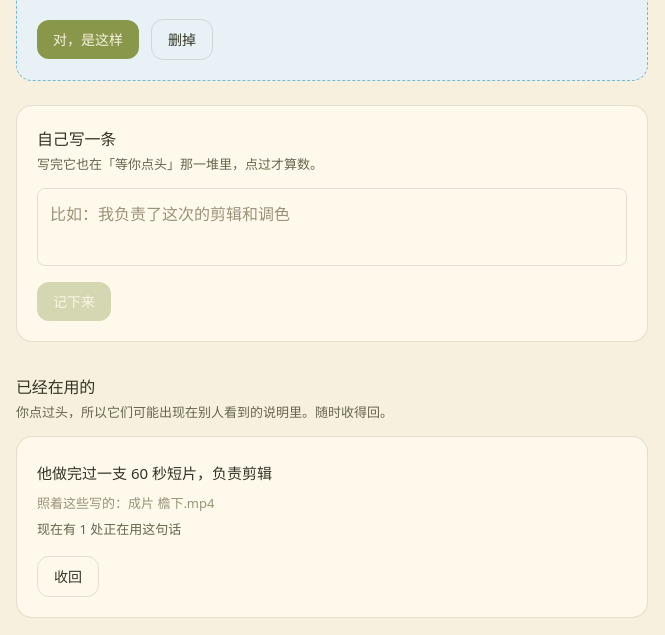
Test case: 收回 › 一步完成：不再确认一次，也不问为什么
The width and height of the screenshot is (665, 635).
(page scrolled)
Step 1. Click the button "收回" → click(68, 577), box [37,556,99,597]
(page scrolled)
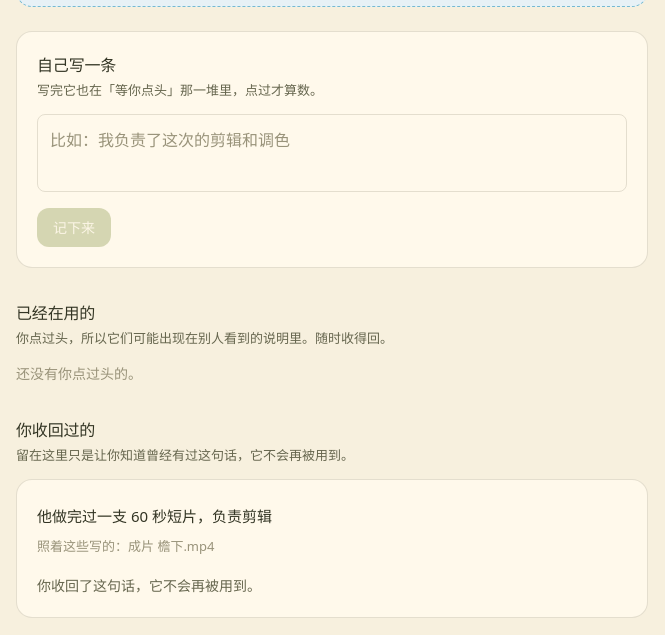
Expected: the element "你收回过的" is shown, [16,417,648,618]
